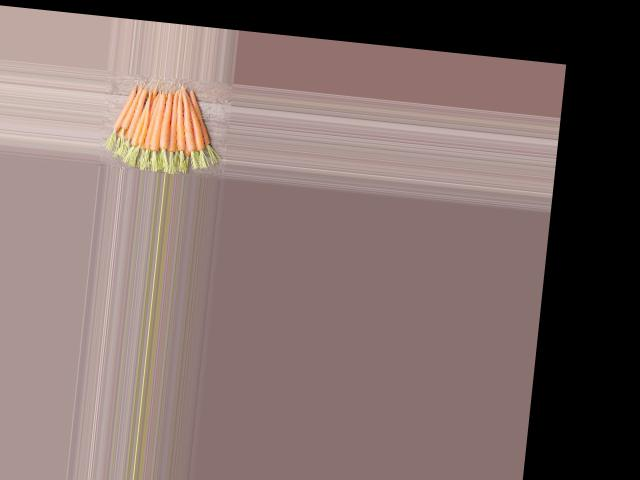carrot: (113, 84, 127, 133)
